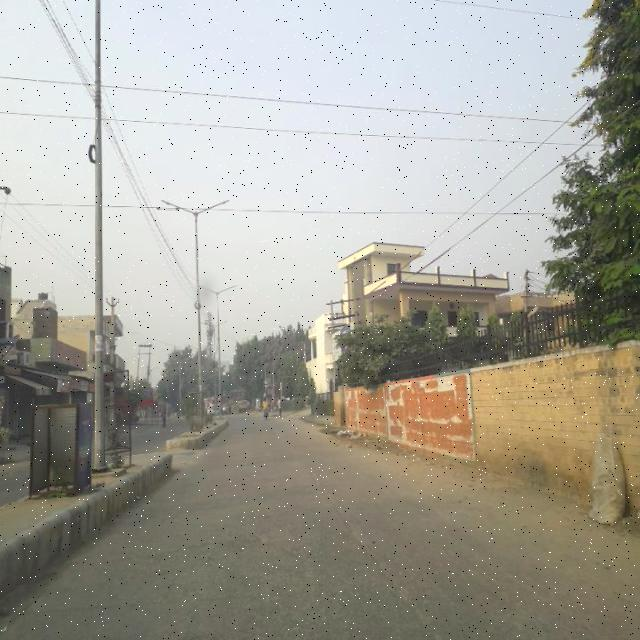D01: (364, 550, 434, 636), (307, 464, 366, 548)
D40: (240, 522, 298, 553)
